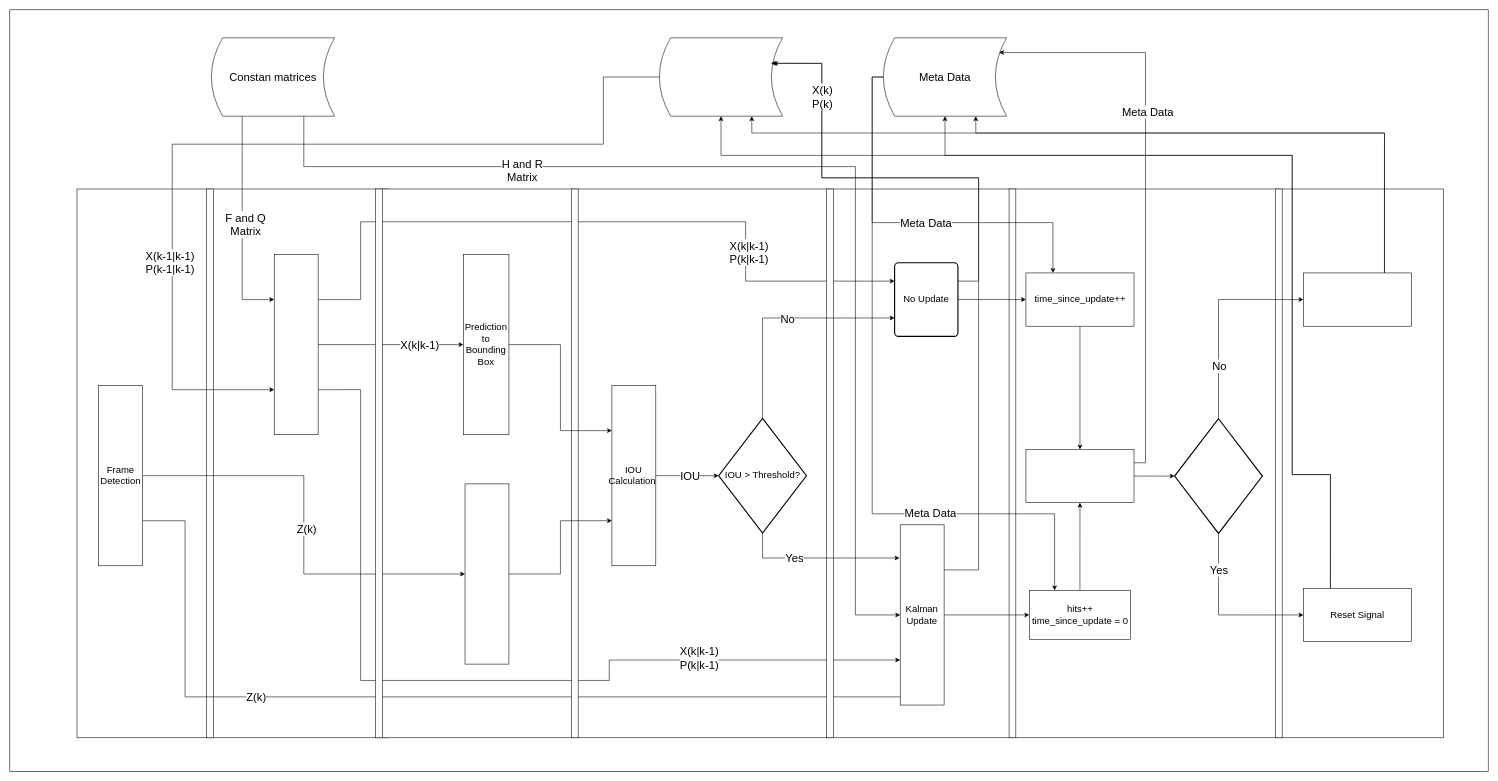
This 1498x781 diagram has some shape labels left out. The centre of each missing label's shape, as x and y in pixels:
"age++" goes at [1079,476].
"Detection to Bounding Box" goes at [486,573].
"Kalman Predict" goes at [296,344].
"Save Signal" goes at [1357,299].
"time_since_update > max age" goes at [1218,476].
"Tracking Object" goes at [721,76].
